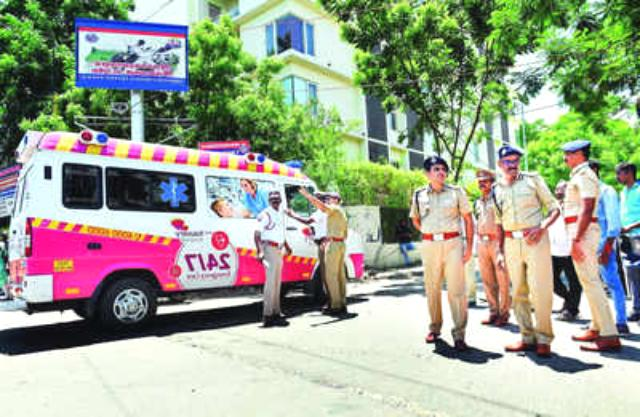ambulance: (2, 126, 368, 344), (330, 156, 346, 172)
